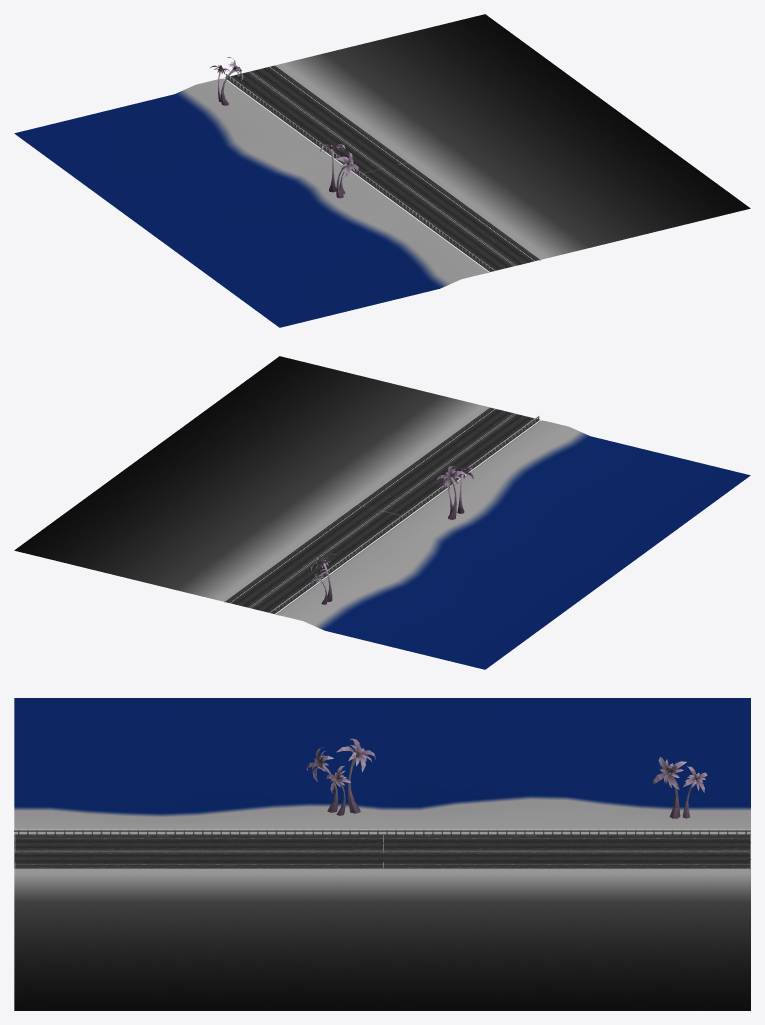
The model's file is miami_road_012.FBX.
3 views of the same model, one above another, from view 1: azimuth 30°, elevation 25°; view 2: azimuth 150°, elevation 25°; view 3: azimuth 270°, elevation 25° (orthographic). The views are drawn at different scales.
Visible parts, largest first — view 1: Plane015, Plane014, Plane011, Plane025, Plane026, Plane005, Group008; view 2: Plane014, Plane015, Plane011, Plane025, Plane005, Plane026, Group004; view 3: Plane025, Plane011, Plane014, Plane015, Plane005, Plane026, Group004, Group008, palm 041, palm 039, palm 038.
Boxes of the visible parts, box(x1,y1,x2,y2) form: Plane015: box(147, 175, 489, 327); Plane014: box(14, 78, 356, 230); Plane011: box(275, 14, 617, 162); Plane025: box(408, 111, 750, 260); Plane026: box(358, 162, 539, 271); Plane005: box(225, 65, 407, 174); Group008: box(358, 171, 491, 270); Plane014: box(275, 517, 617, 669); Plane015: box(408, 420, 750, 572); Plane011: box(14, 453, 356, 602); Plane025: box(147, 356, 489, 504); Plane005: box(225, 504, 406, 613); Plane026: box(357, 407, 539, 516); Group004: box(273, 513, 406, 612); Plane025: box(14, 868, 382, 1010); Plane011: box(382, 868, 750, 1010); Plane014: box(382, 698, 750, 834); Plane015: box(14, 698, 382, 834); Plane005: box(382, 834, 750, 868); Plane026: box(14, 834, 382, 868); Group004: box(382, 829, 750, 835); Group008: box(14, 829, 382, 835); palm 041: box(653, 757, 686, 818); palm 039: box(336, 738, 375, 813); palm 038: box(306, 747, 338, 812).
Size of the model in its own units: 3277 by 348 by 3201.
